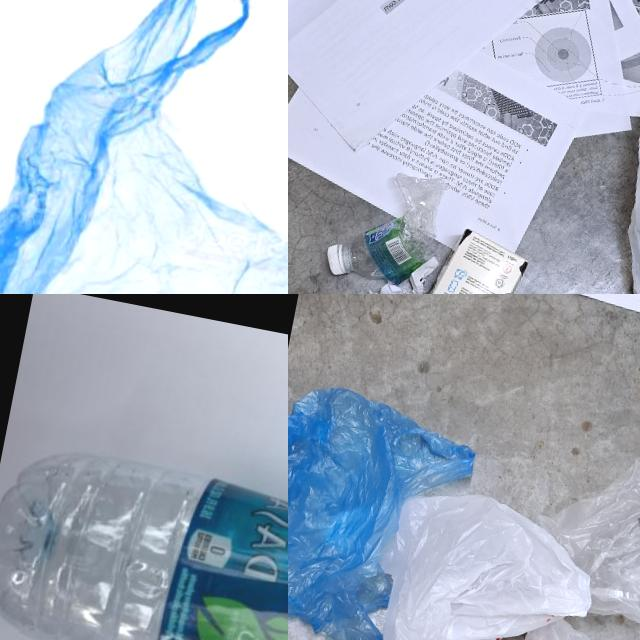caixinha: (361, 216, 531, 294)
garrafa plástica: (0, 432, 288, 640), (320, 160, 451, 291)
papel: (288, 0, 640, 286), (364, 244, 445, 294)
sacola plástica: (288, 328, 640, 640), (0, 0, 288, 294)
tampa plástica: (322, 240, 352, 274)
